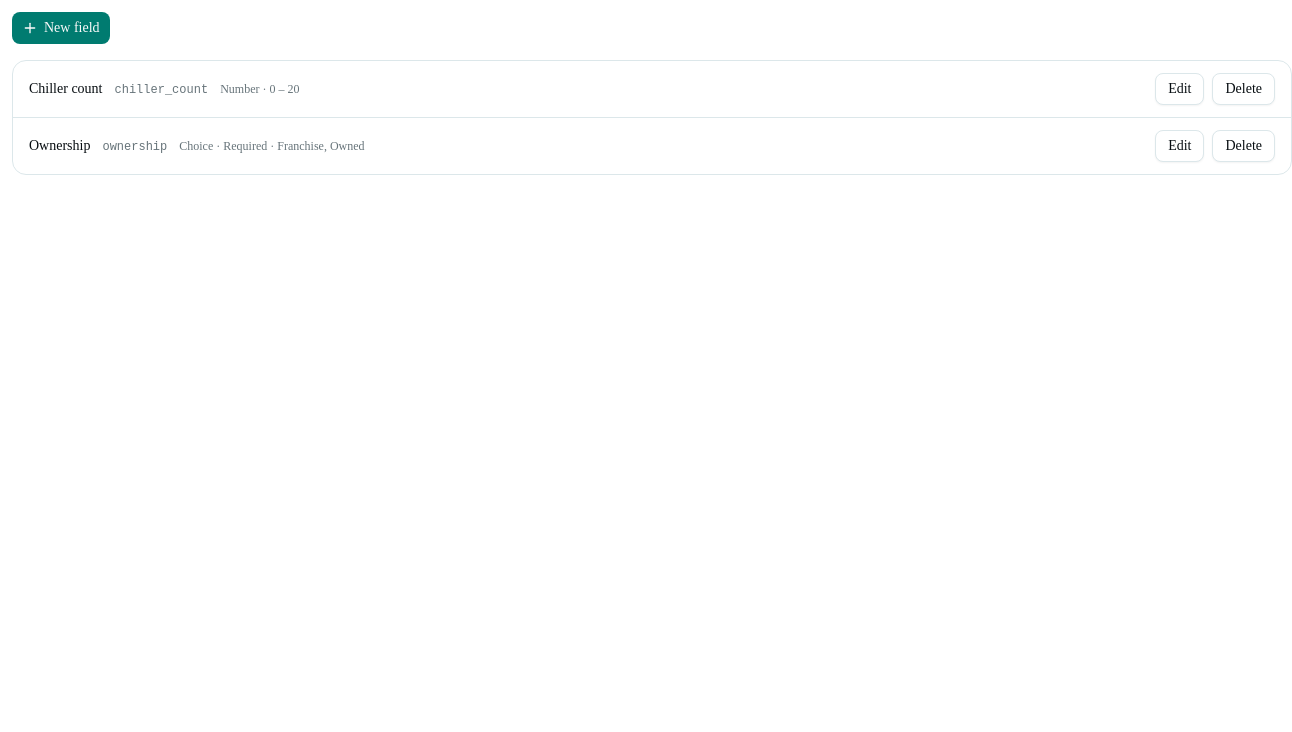
Test case: <FieldDefinitionBrowser> › fills the key in from the label, so an admin does not have to know the format
The image size is (1292, 732).
Click the button "New field".
click(61, 28)  # box [12,12,110,44]
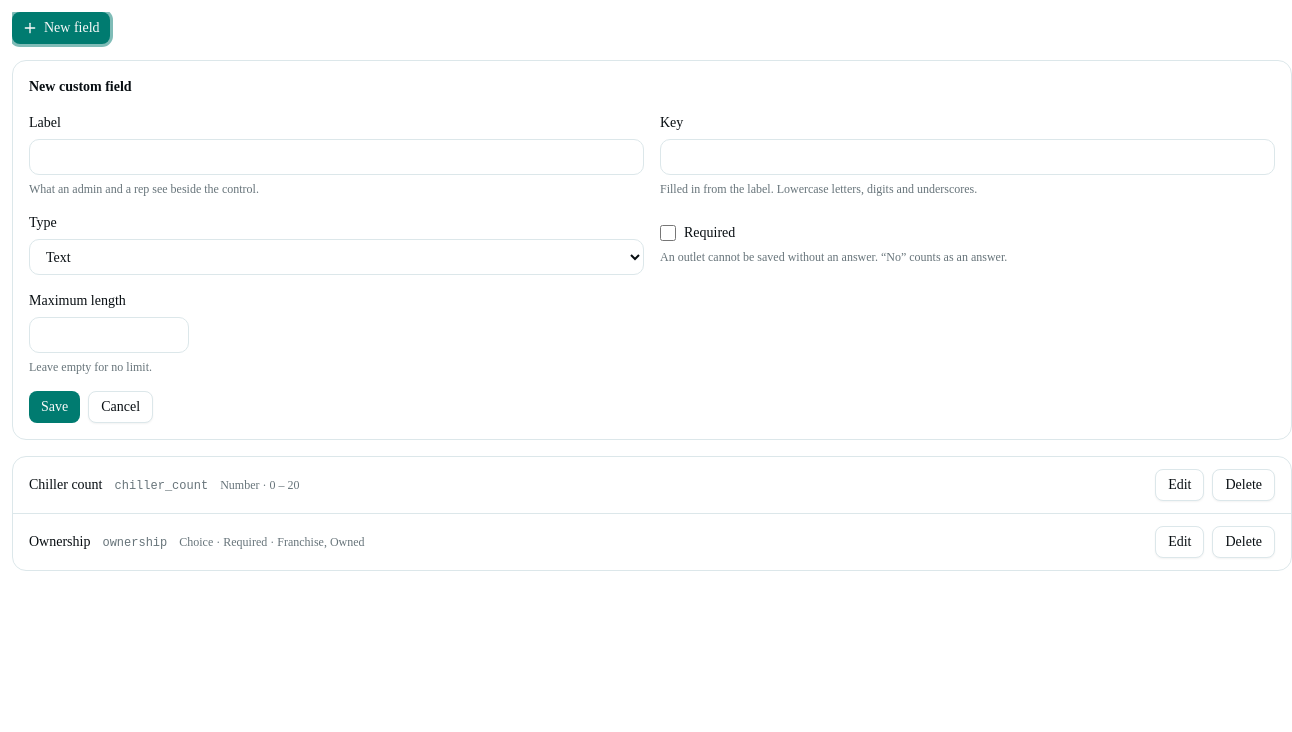
Type "Shelf space" into the field labelled "Label".
click(336, 157); type("Shelf space")  # box [29,139,644,175]
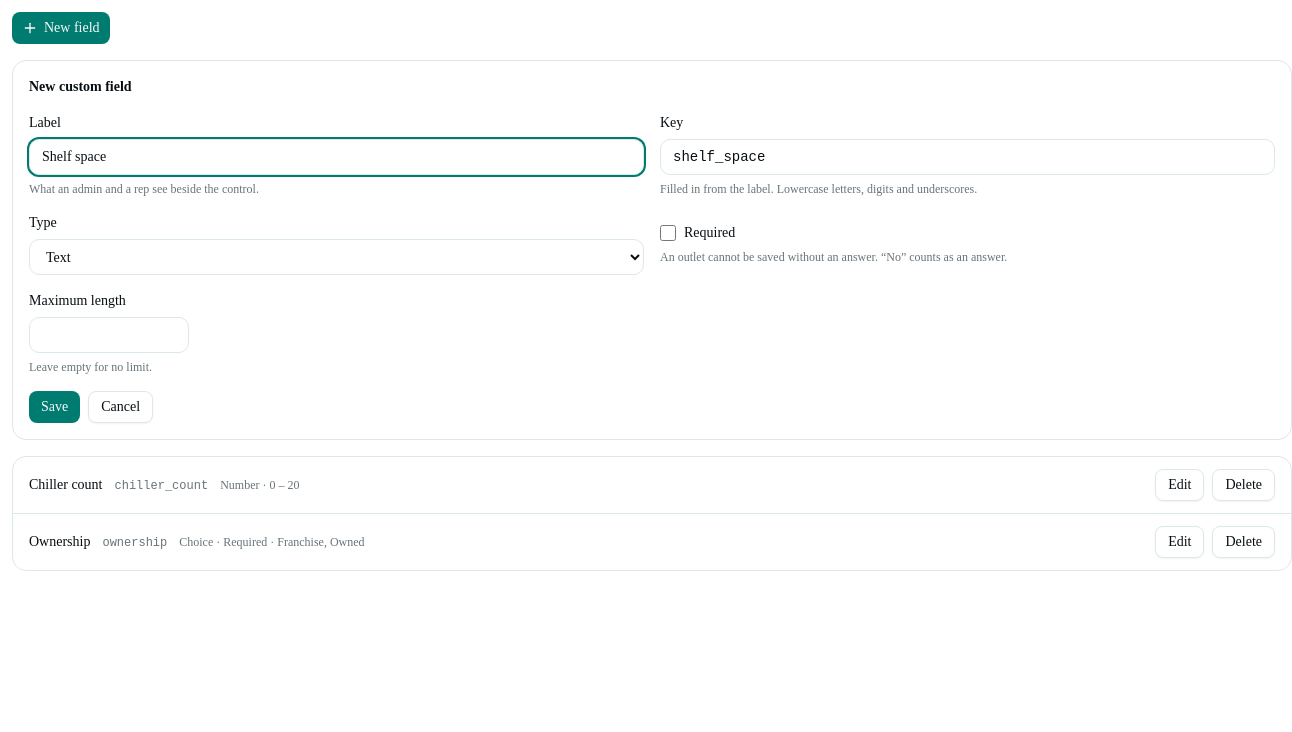
Expected: the field labelled "Key" holds "shelf_space", [660,139,1275,175]
